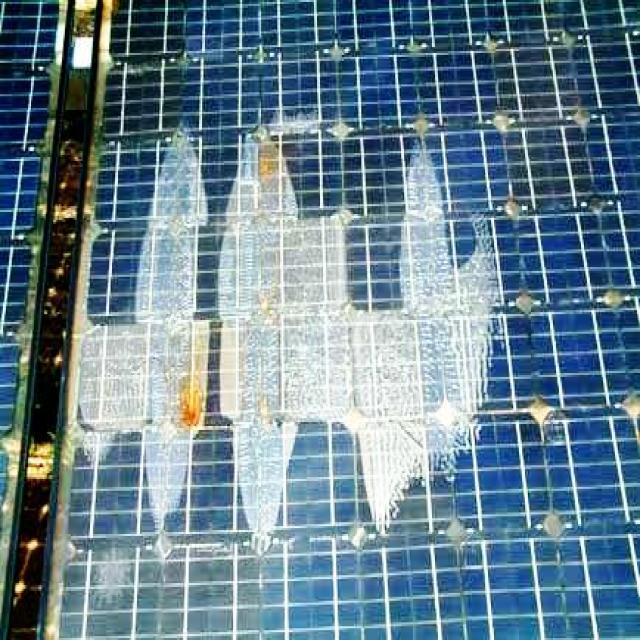faulty: (59, 4, 640, 640)
